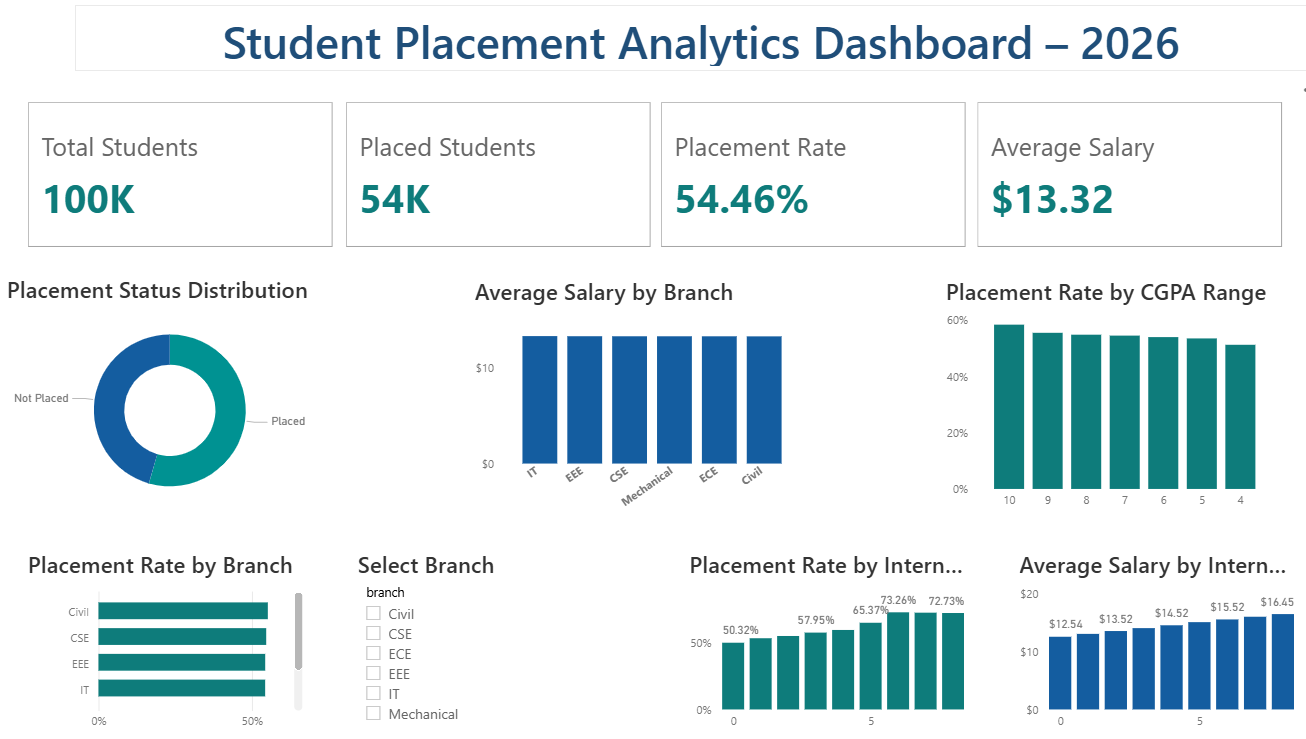

What the dashboard file says about the page in this screenshot:
{"tool":"powerbi","page":{"name":"Page 1","canvas":[1280,720],"ordinal":0},"visuals":[{"type":"cardVisual","fields":{"Data":["PlacementData.Total Students"]},"box":[30,101.1,300,148.4],"z":0},{"type":"cardVisual","fields":{"Data":["PlacementData.Placed Students"]},"box":[332.6,101.6,300,148],"z":1000},{"type":"cardVisual","fields":{"Data":["PlacementData.Placement Rate"]},"box":[633.4,101.6,300,148],"z":2000},{"type":"cardVisual","fields":{"Data":["PlacementData.Average Salary"]},"box":[934.1,101.6,300,148],"z":3000},{"type":"donutChart","title":"Placement Status Distribution","fields":{"Y":["CountNonNull(PlacementData.student_id)"],"Category":["PlacementData.placement_status"]},"box":[10,270,320,231.4],"z":4000},{"type":"clusteredColumnChart","title":"Average Salary by Branch","fields":{"Category":["PlacementData.branch"],"Y":["PlacementData.Average Salary by Branch"]},"box":[456.2,271.2,320,231.2],"z":5000},{"type":"slicer","title":"Select Branch","fields":{"Values":["PlacementData.branch"]},"box":[344.8,532.9,271.4,181.4],"z":6000},{"type":"clusteredColumnChart","title":"Placement Rate by CGPA Range","fields":{"Y":["PlacementData.Placement Rate"],"Category":["PlacementData.cgpa (bins)"]},"box":[906.2,302.7,320,231],"z":7000},{"type":"clusteredBarChart","title":"Placement Rate by Branch","fields":{"Y":["PlacementData.Placement Rate"],"Category":["PlacementData.branch"]},"box":[30,531.4,271.4,181.4],"z":8000},{"type":"clusteredColumnChart","title":"Placement Rate by Internship Count","fields":{"Category":["PlacementData.internships_count"],"Y":["PlacementData.Placement Rate"]},"box":[659.5,531.4,271.4,181.4],"z":9000},{"type":"clusteredColumnChart","title":"Average Salary by Internship Count","fields":{"Category":["PlacementData.internships_count"],"Y":["PlacementData.Average Salary by Internship"]},"box":[974.3,534.3,271.4,181.4],"z":10000},{"type":"textbox","box":[80.5,14.2,1200,63.2],"z":11000}]}

Visuals, with their boxes in screenshot pixels (x1, y1, x2, y2), scaled from the page's 1280x720 canvas onto the 1306x739 screenshot:
cardVisual - PlacementData.Total Students: {"x1": 31, "y1": 104, "x2": 337, "y2": 256}
cardVisual - PlacementData.Placed Students: {"x1": 339, "y1": 104, "x2": 645, "y2": 256}
cardVisual - PlacementData.Placement Rate: {"x1": 646, "y1": 104, "x2": 952, "y2": 256}
cardVisual - PlacementData.Average Salary: {"x1": 953, "y1": 104, "x2": 1259, "y2": 256}
"Placement Status Distribution" donutChart: {"x1": 10, "y1": 277, "x2": 337, "y2": 515}
"Average Salary by Branch" clusteredColumnChart: {"x1": 465, "y1": 278, "x2": 792, "y2": 516}
"Select Branch" slicer: {"x1": 352, "y1": 547, "x2": 629, "y2": 733}
"Placement Rate by CGPA Range" clusteredColumnChart: {"x1": 925, "y1": 311, "x2": 1251, "y2": 548}
"Placement Rate by Branch" clusteredBarChart: {"x1": 31, "y1": 545, "x2": 308, "y2": 732}
"Placement Rate by Internship Count" clusteredColumnChart: {"x1": 673, "y1": 545, "x2": 950, "y2": 732}
"Average Salary by Internship Count" clusteredColumnChart: {"x1": 994, "y1": 548, "x2": 1271, "y2": 735}
textbox: {"x1": 82, "y1": 15, "x2": 1305, "y2": 79}
